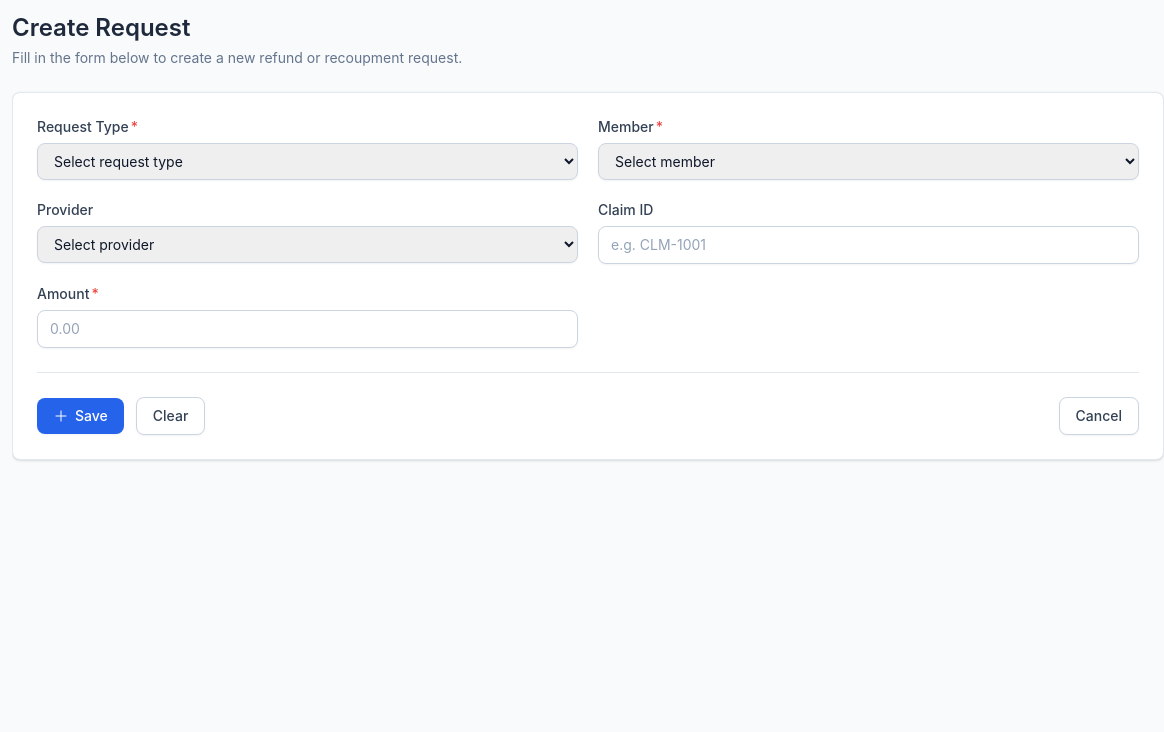
Test case: CreateEditRequest › create mode - field validation › shows validation error when request type is not selected
Select "John Smith" in the dropdown labelled "Member*" at (868, 162), box [598,143,1139,180]
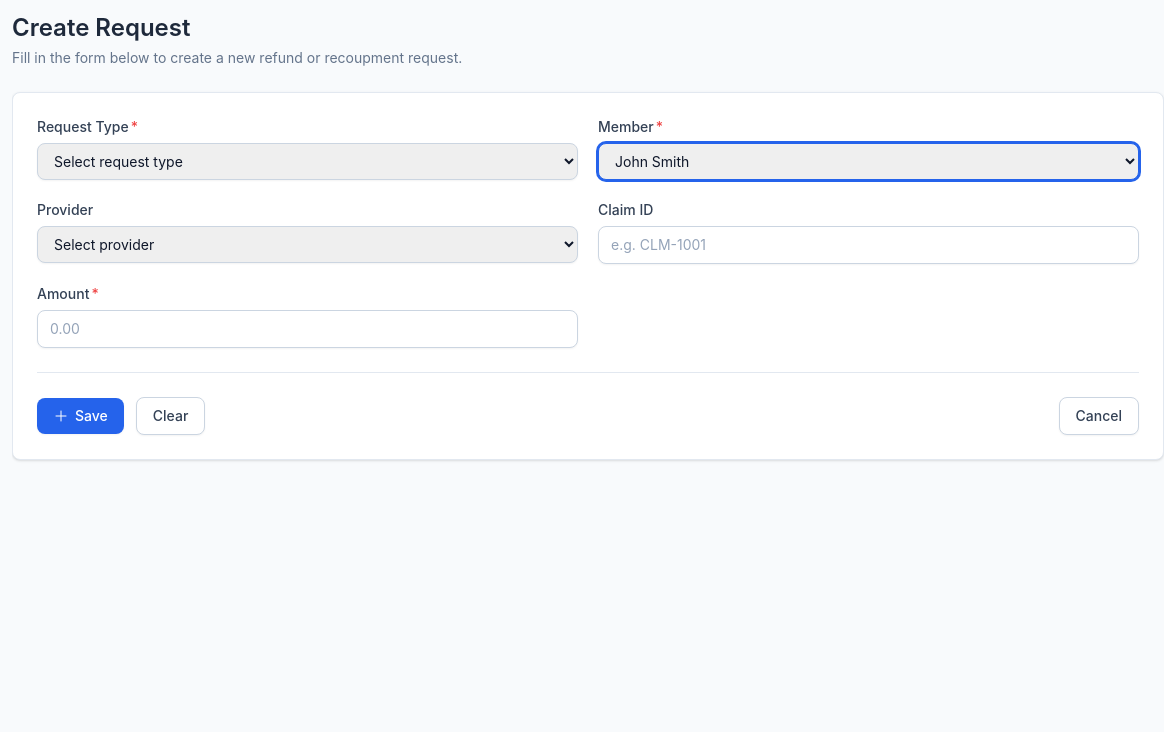
Type "100" into the number field labelled "Amount*" at (308, 329), box [37,310,578,348]
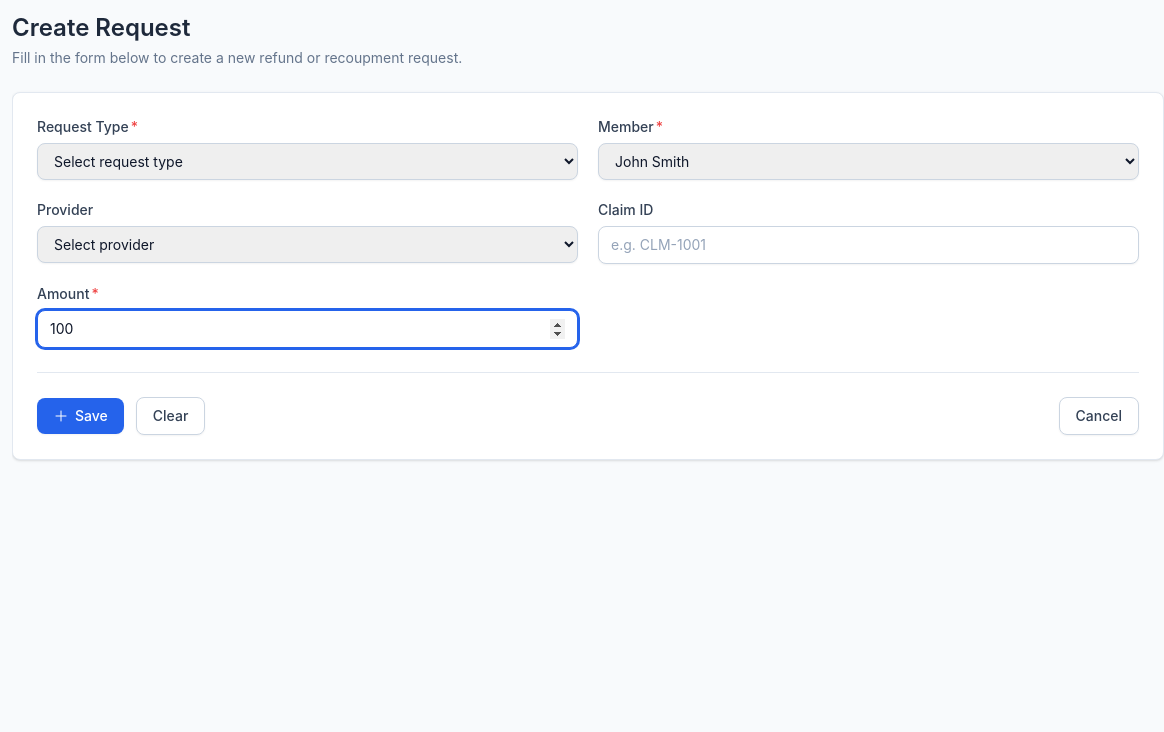
Click the button "Save" at (80, 416), box [37,398,124,434]
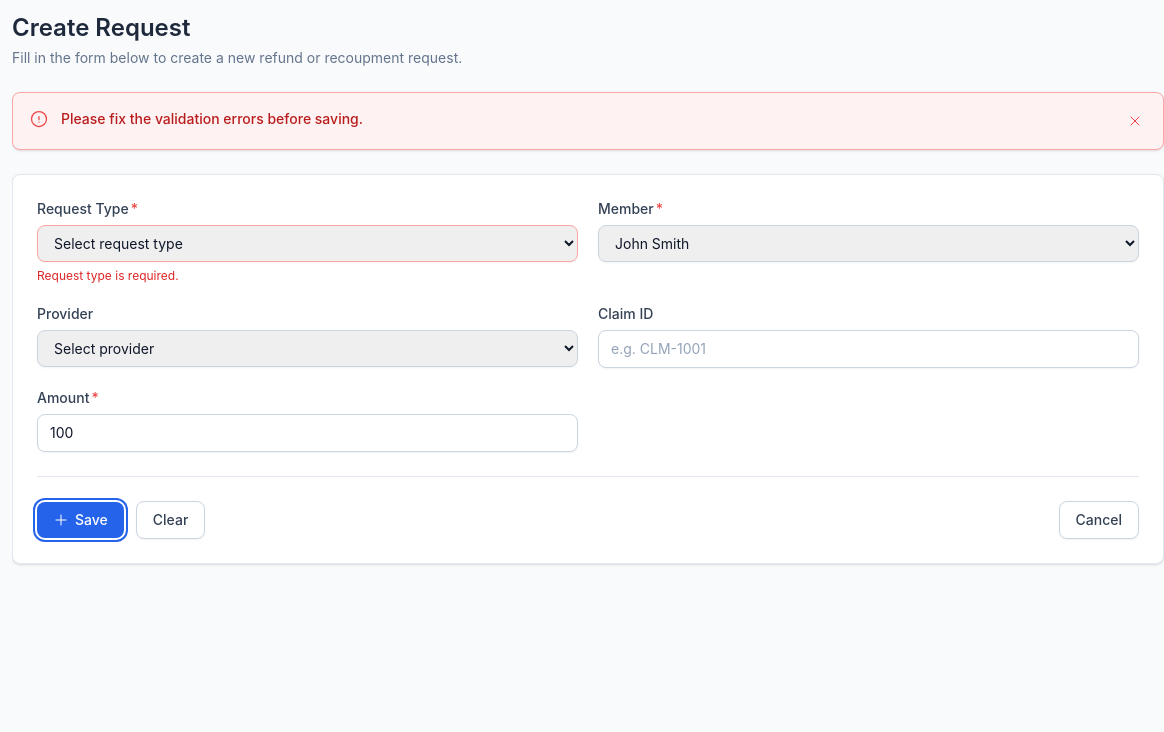
Expected: the text "Request type is required." is shown, [37,268,179,283]
